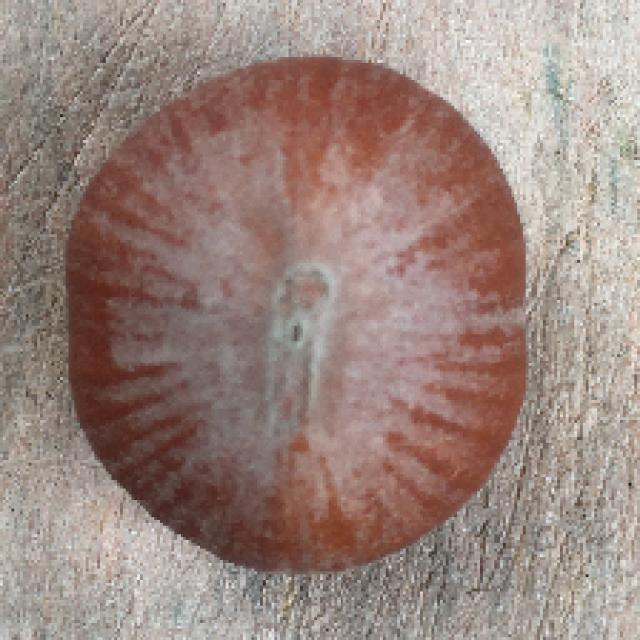QualityHazelnut: (65, 53, 531, 584)
